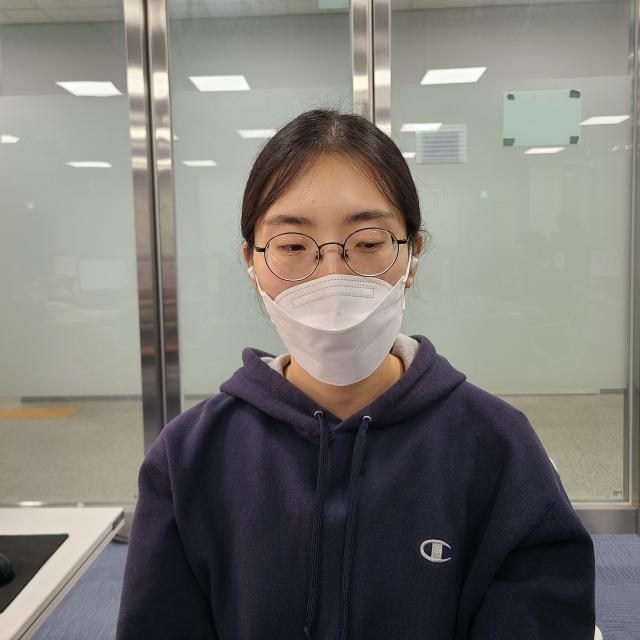earphone: (236, 258, 270, 292), (408, 249, 433, 289)
